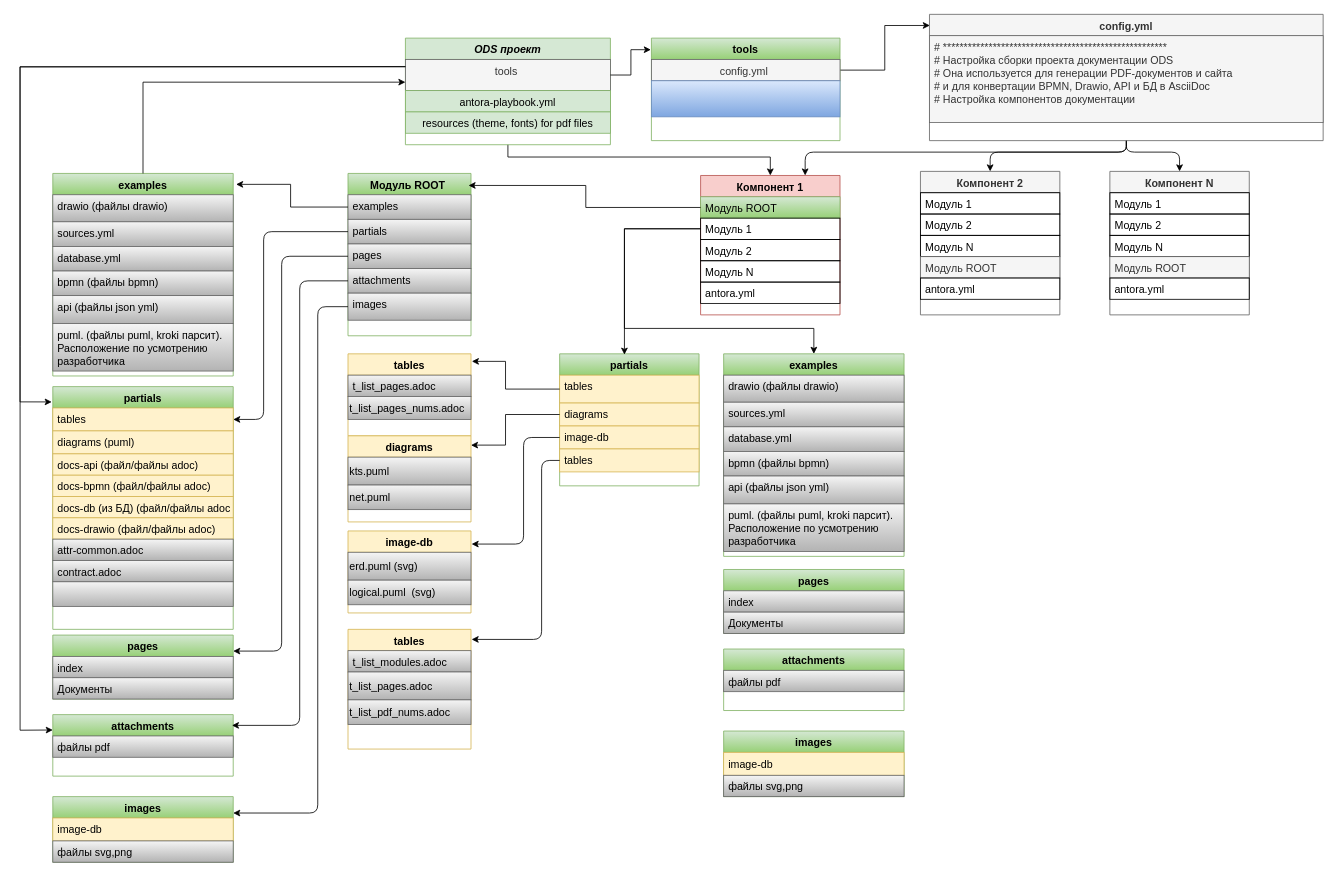
This 1338x879 diagram has some shape labels left out. The centre of each missing label's shape, as x and y in pixels:
list - Списки страниц и документов: point 142,593
scripts (скрипты сборки и конвертации): point 745,98
